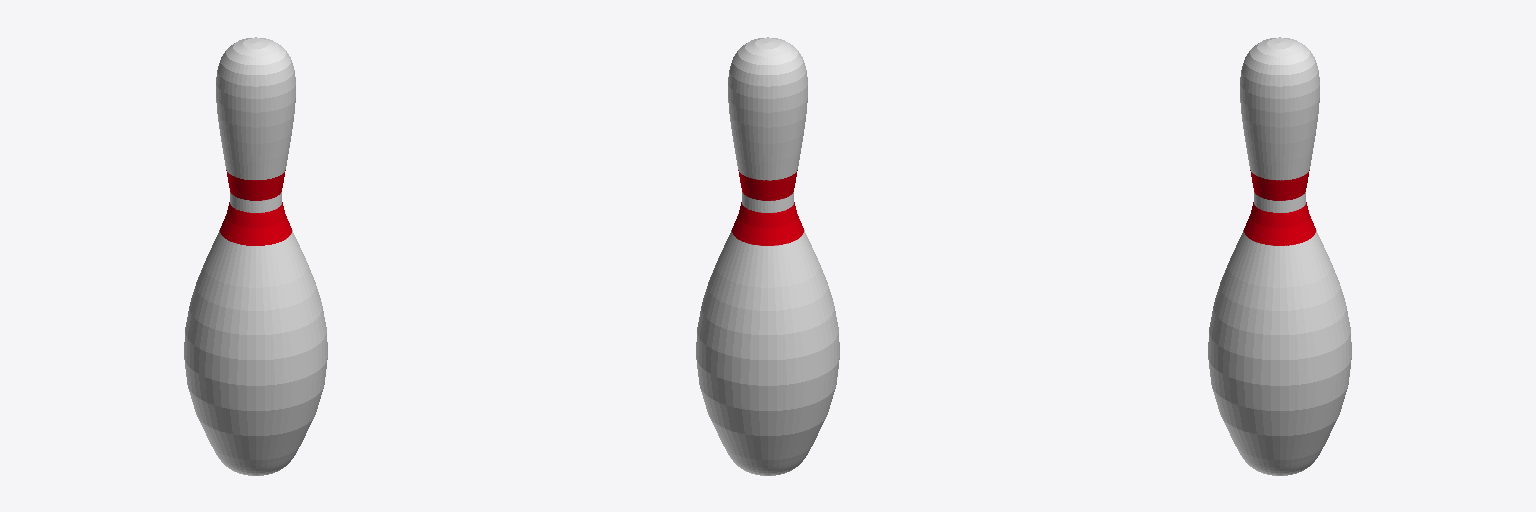
3 views of the same model, side by side, from view 1: azimuth 30°, elevation 25°; view 2: azimuth 150°, elevation 25°; view 3: azimuth 270°, elevation 25° (orthographic).
Visible parts, largest first — view 1: Pin_Mesh; view 2: Pin_Mesh; view 3: Pin_Mesh.
Boxes of the visible parts, <box> form: Pin_Mesh: <box>184,37,327,475</box>; Pin_Mesh: <box>696,37,839,475</box>; Pin_Mesh: <box>1208,37,1351,475</box>.
Bounding box in the file's own units: 1.16 × 3.8 × 1.16.
Materials: 2 (1 with a texture image).